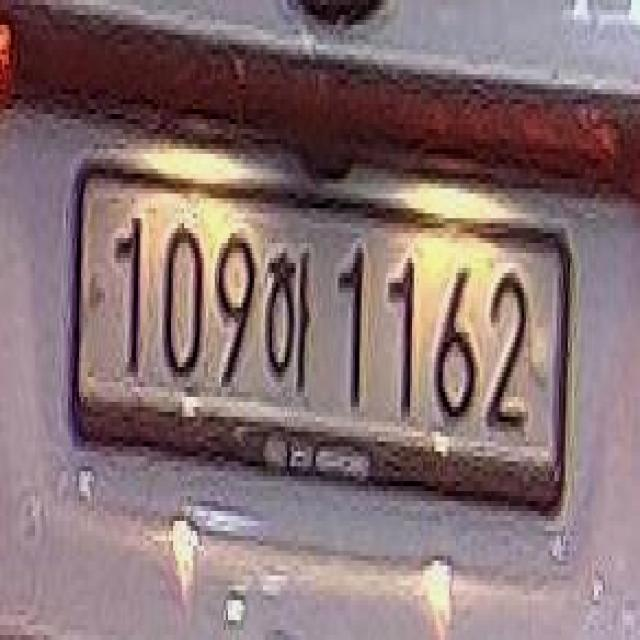illegal_plate: (71, 155, 564, 522)
